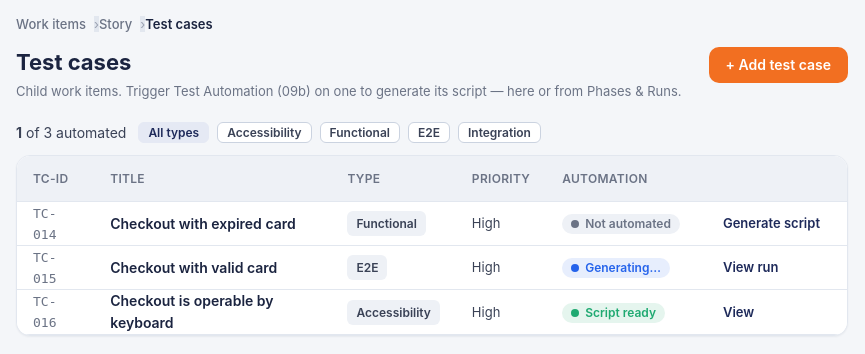
Test: G2 — a case says what kind it is › shows the type beside each case, and filters by it
Expected: the number of buttons "Functional" is 2, [320, 122, 400, 143]; [347, 211, 426, 236]
Expected: the number of buttons "E2E" is 2, [408, 122, 450, 143]; [347, 255, 387, 280]
Click the button "Accessibility" at coordinates (264, 132), box [217, 122, 312, 143]
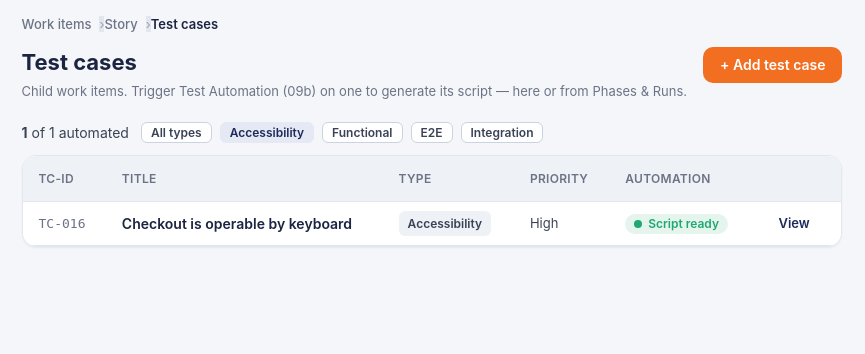
Expected: the text "Checkout is operable by keyboard" is shown, [122, 214, 352, 232]
Expected: the text "Checkout with expired card" is gone
